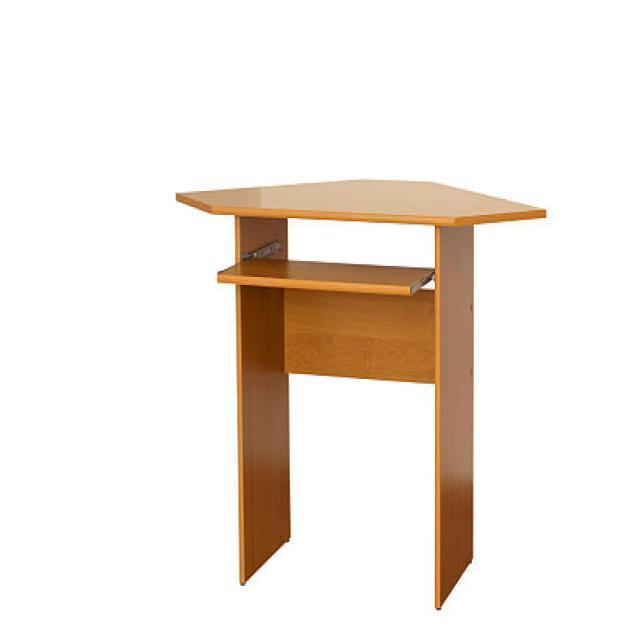table: (175, 176, 548, 610)
